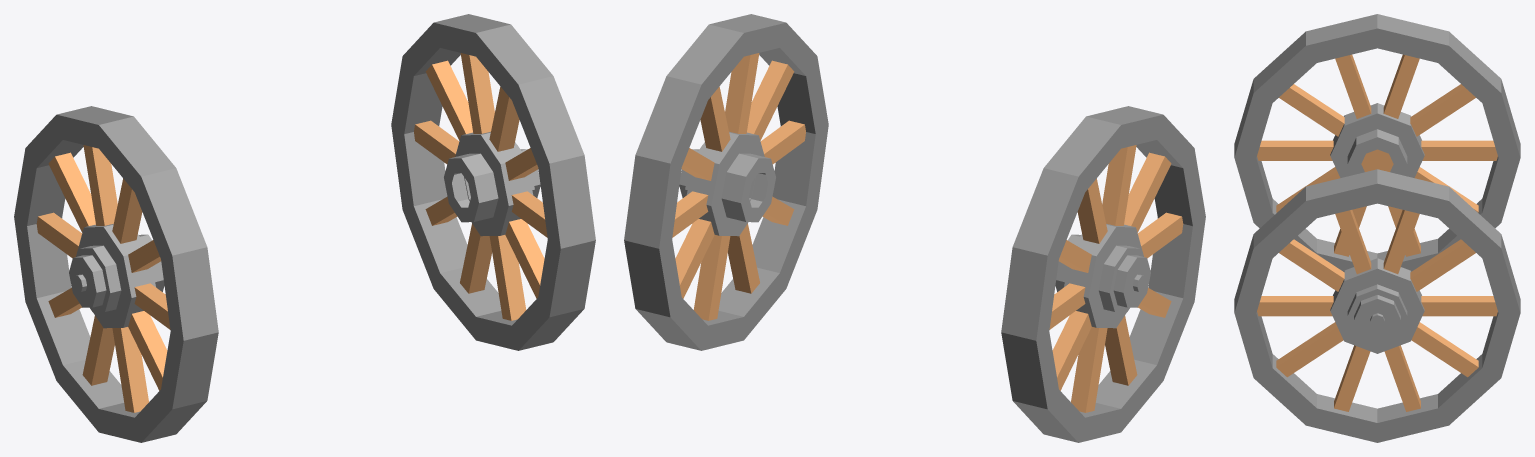
Rendered from cannon.03.fbx.
3 views of the same model, side by side, from view 1: azimuth 30°, elevation 25°; view 2: azimuth 150°, elevation 25°; view 3: azimuth 270°, elevation 25° (orthographic). The views are drawn at different scales.
Parts seen in each view (by area): view 1: cannon.03; view 2: cannon.03; view 3: cannon.03.
Part boxes in pixels (<box>): cannon.03: <box>14,14,595,442</box>; cannon.03: <box>624,14,1205,442</box>; cannon.03: <box>1234,14,1520,442</box>.
Bounding box in the file's own units: 2.12 × 1.37 × 1.37.
